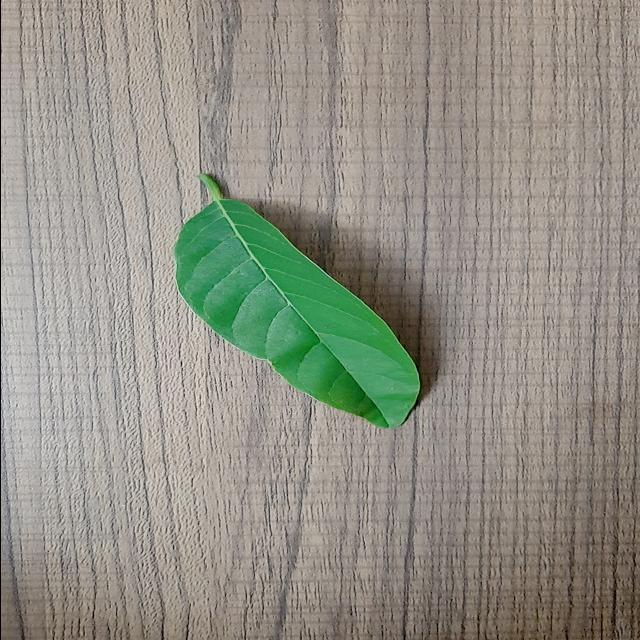leaf: (172, 171, 421, 429)
